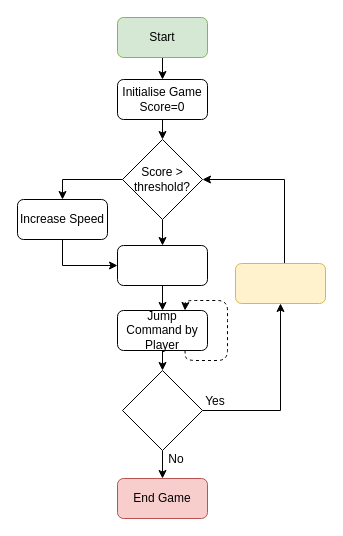
This 343x536 diagram has some shape labels left out. Each missing label, with the box of its shape:
Collision avoided?: (122, 370, 202, 450)
Respawn Colliders: (116, 244, 208, 286)
Score += 1: (234, 262, 326, 304)
